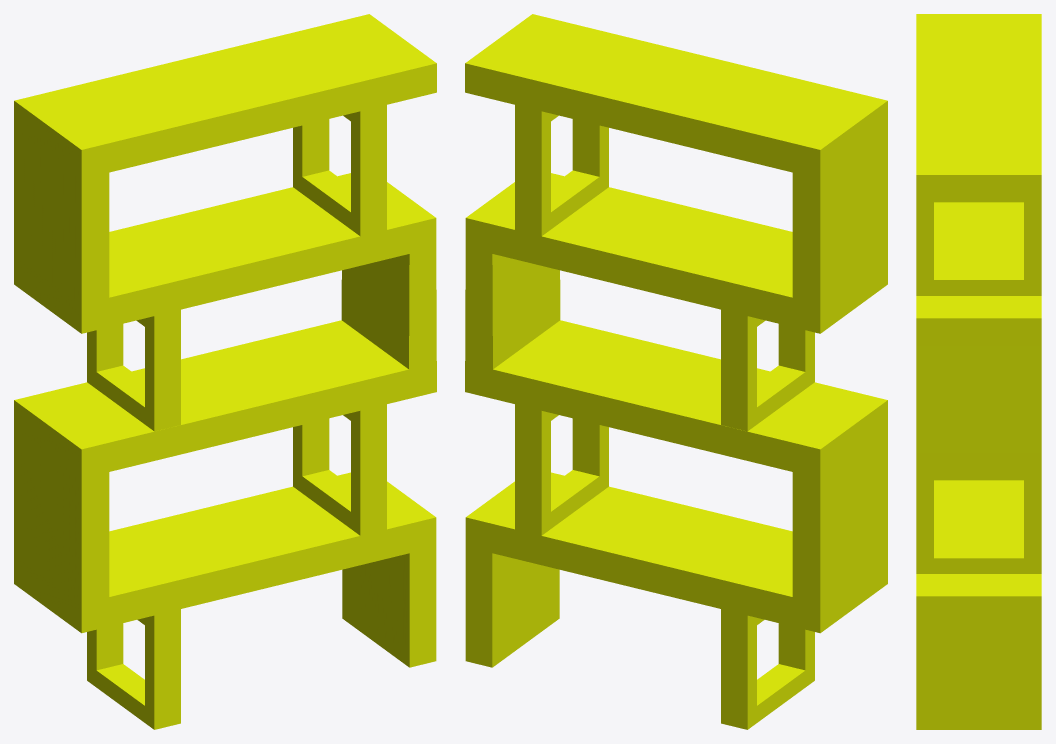
File: Shelf1.FBX
3 views of the same model, side by side, from view 1: azimuth 30°, elevation 25°; view 2: azimuth 150°, elevation 25°; view 3: azimuth 270°, elevation 25° (orthographic). The views are drawn at different scales.
Visible parts, largest first — view 1: Box029; view 2: Box029; view 3: Box029.
Part boxes in pixels (x1,y1,x2,y2): Box029: (14, 14, 436, 729); Box029: (465, 14, 887, 729); Box029: (916, 14, 1041, 729).
Size of the model in its own units: 1.72 by 2.77 by 0.5652.
